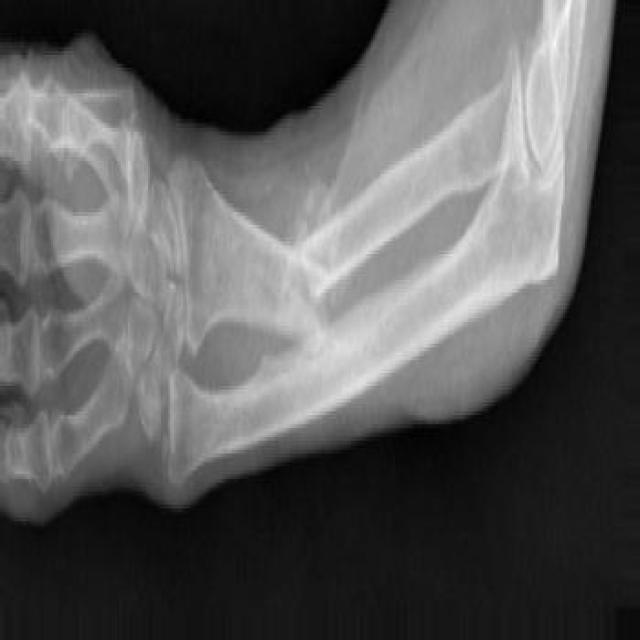Fracture: (288, 210, 323, 336)
